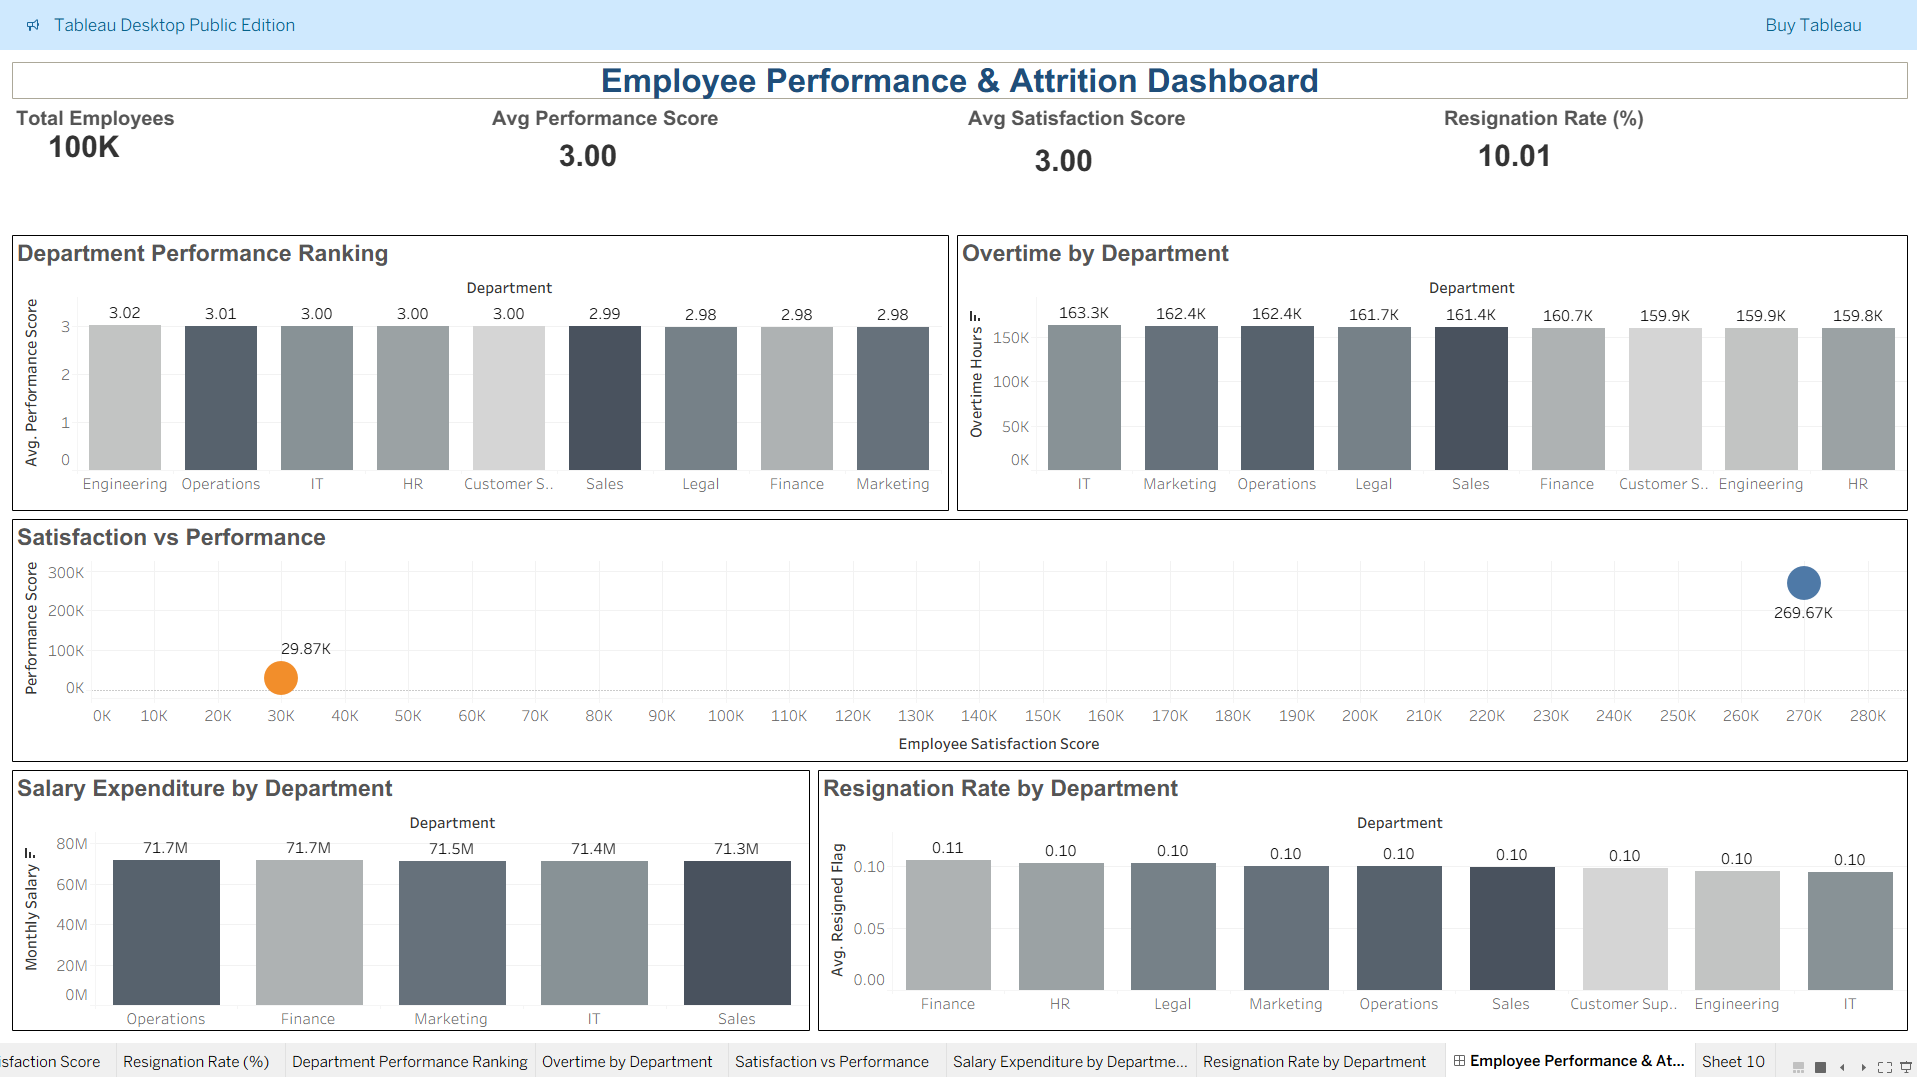

This screenshot's page, from the dashboard's own definition file:
{"tool":"tableau","page":{"name":"Employee Performance & Attrition Dashboard","canvas":[1000,1000],"units":"permille","ordinal":0},"visuals":[{"type":"title","box":[4.8,10,990.3,56.2]},{"type":"worksheet","title":"Total Employees","mark":"Automatic","box":[4.8,66.2,248,103.6]},{"type":"worksheet","title":"Avg Performance Score","mark":"Automatic","box":[252.9,66.2,247.4,103.6]},{"type":"worksheet","title":"Avg Satisfaction Score","mark":"Automatic","box":[500.3,66.2,247.4,103.6]},{"type":"worksheet","title":"Resignation Rate (%)","mark":"Automatic","box":[747.7,66.2,247.4,103.6]},{"type":"worksheet","title":"Department Performance Ranking","mark":"Automatic","rows":["Performance_Score"],"cols":["Department"],"box":[4.8,183.5,486.7,284.6]},{"type":"worksheet","title":"Overtime by Department","mark":"Automatic","rows":["Overtime_Hours"],"cols":["Department"],"box":[491.5,183.5,503.6,284.6]},{"type":"worksheet","title":"Satisfaction vs Performance","mark":"Circle","rows":["Performance_Score"],"cols":["Employee_Satisfaction_Score"],"box":[4.8,468.1,990.3,252.2]},{"type":"worksheet","title":"Salary Expenditure by Department","mark":"Automatic","rows":["Monthly_Salary"],"cols":["Department"],"box":[4.8,720.3,486.4,269.7]},{"type":"worksheet","title":"Resignation Rate by Department","mark":"Automatic","rows":["Calculation_1543455152783361"],"cols":["Department"],"box":[491.2,720.3,503.9,269.7]}]}

Visuals, with their boxes on the dashboard's canvas, which has no fixed pixel size, in thousandths of its width and height (x1, y1, x2, y2). These are canvas units, not pixel positions in the 1917x1077 screenshot, which may show the page scaled, cropped or inside an application window:
title: Rect(5, 10, 995, 66)
"Total Employees" worksheet: Rect(5, 66, 253, 170)
"Avg Performance Score" worksheet: Rect(253, 66, 500, 170)
"Avg Satisfaction Score" worksheet: Rect(500, 66, 748, 170)
"Resignation Rate (%)" worksheet: Rect(748, 66, 995, 170)
"Department Performance Ranking" worksheet: Rect(5, 184, 492, 468)
"Overtime by Department" worksheet: Rect(492, 184, 995, 468)
"Satisfaction vs Performance" worksheet (Circle marks): Rect(5, 468, 995, 720)
"Salary Expenditure by Department" worksheet: Rect(5, 720, 491, 990)
"Resignation Rate by Department" worksheet: Rect(491, 720, 995, 990)
